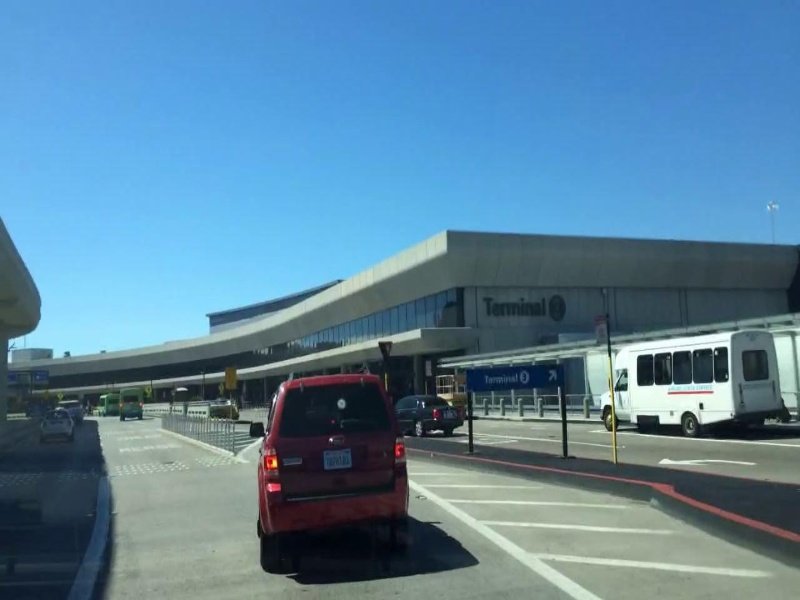car: (244, 368, 414, 577), (592, 338, 791, 433), (389, 387, 468, 440), (37, 408, 83, 444), (109, 385, 148, 421), (207, 391, 246, 424), (57, 398, 90, 425), (98, 388, 115, 417)
